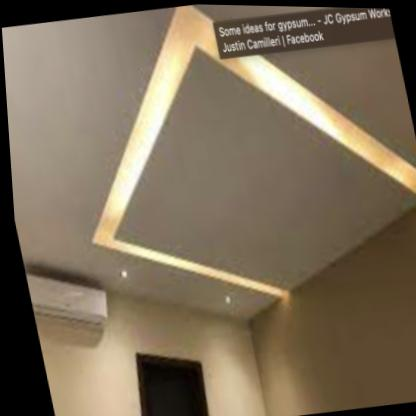Gypsum Board: (0, 0, 416, 357)
